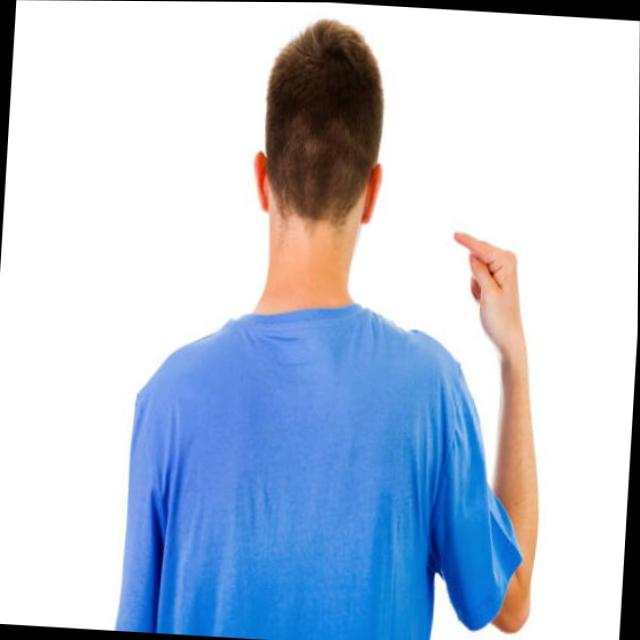no helmet: (243, 13, 396, 249)
